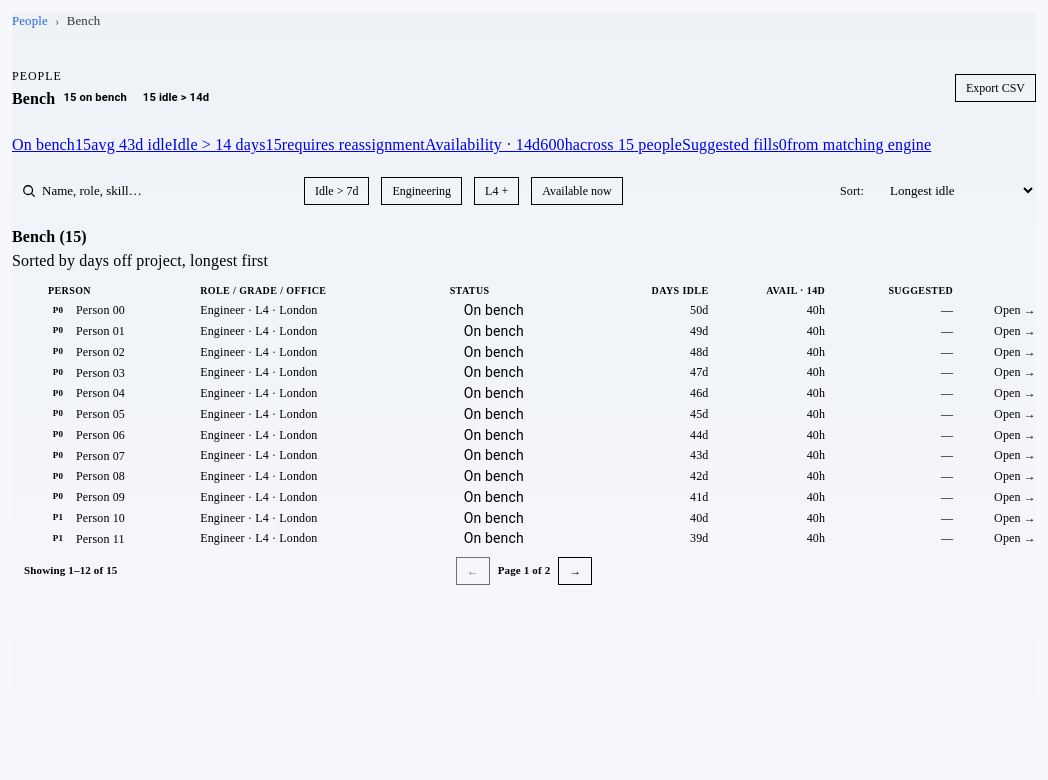
Scenario: BenchEnrichedPanel — A7/A8/A9 chrome › A8: paginates the list at 12/page with a Showing N of M footer
Check: the element with test id "bench-pagination" shows "Showing 1–12 of 15", box [24, 557, 592, 585]
Click the button named "Next page": coordinates (575, 571) [558, 557, 592, 585]
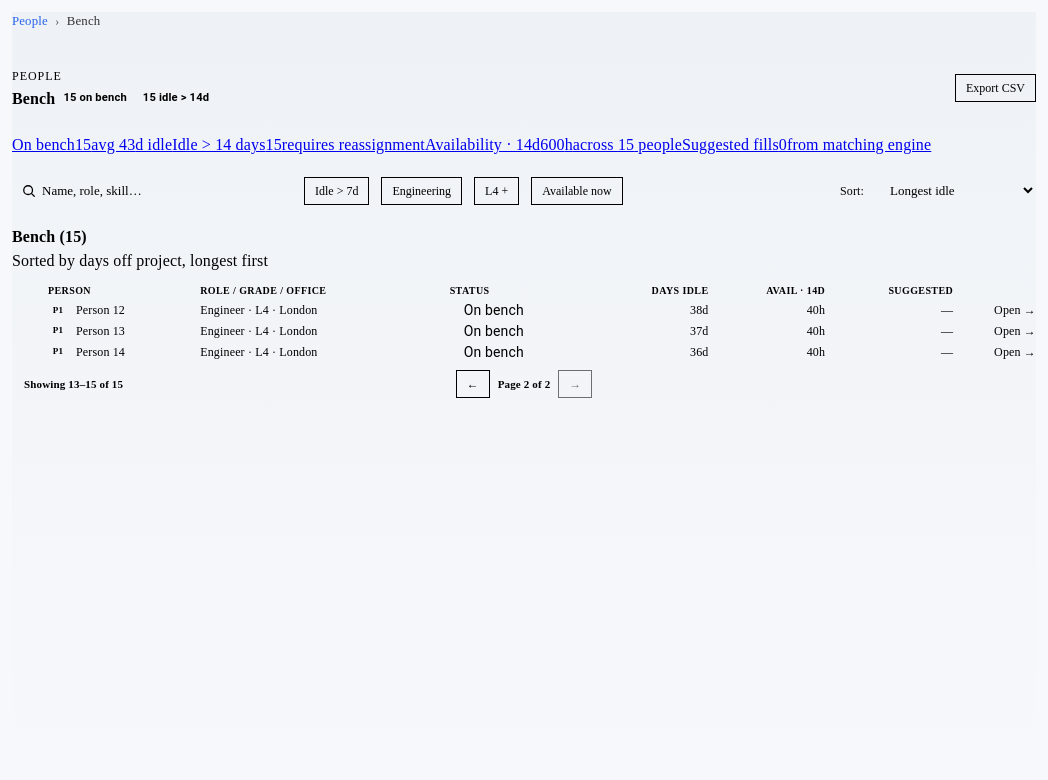
Check: the element with test id "bench-pagination" shows "Showing 13–15 of 15", box [24, 370, 592, 398]
